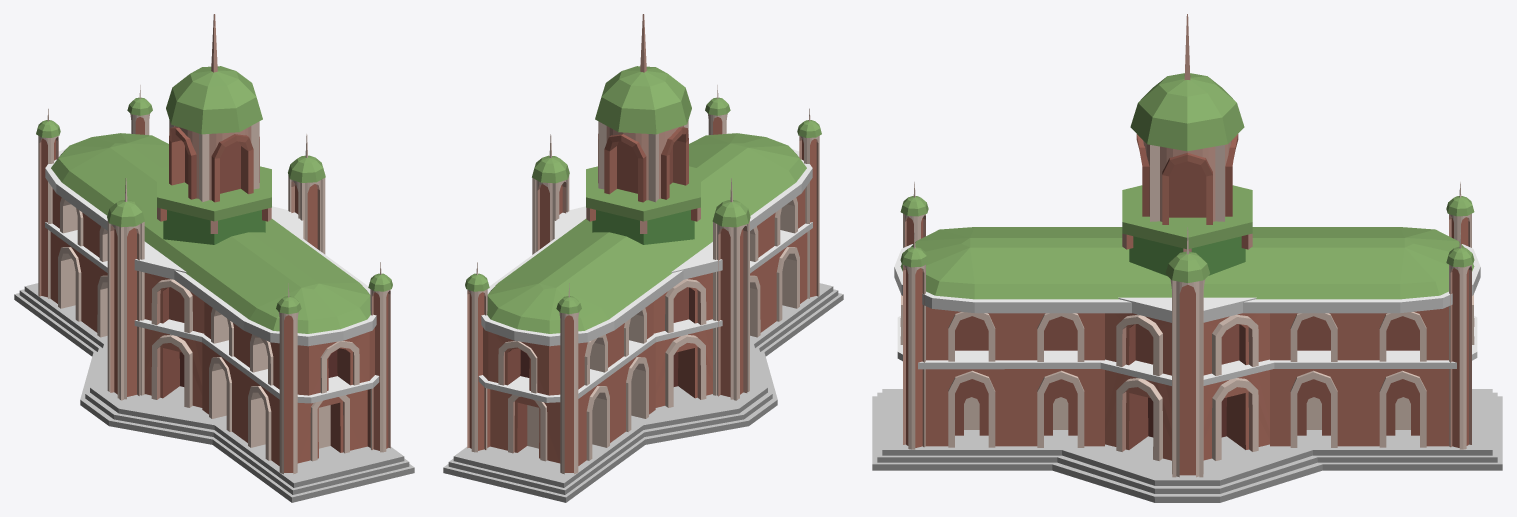
Rendered from temple_008.glb.
3 renders of one model, left to right at view 1: azimuth 30°, elevation 25°; view 2: azimuth 150°, elevation 25°; view 3: azimuth 270°, elevation 25°, orthographic. The views are drawn at different scales.
Visible parts, largest first — view 1: temple_008; view 2: temple_008; view 3: temple_008.
Boxes of the visible parts, box(x1,y1,x2,y2) form: temple_008: box(14, 14, 414, 502); temple_008: box(443, 14, 843, 502); temple_008: box(872, 14, 1502, 502).
Size of the model in its own units: 13.71 by 20.32 by 27.49.
1 material, 1 textured.
